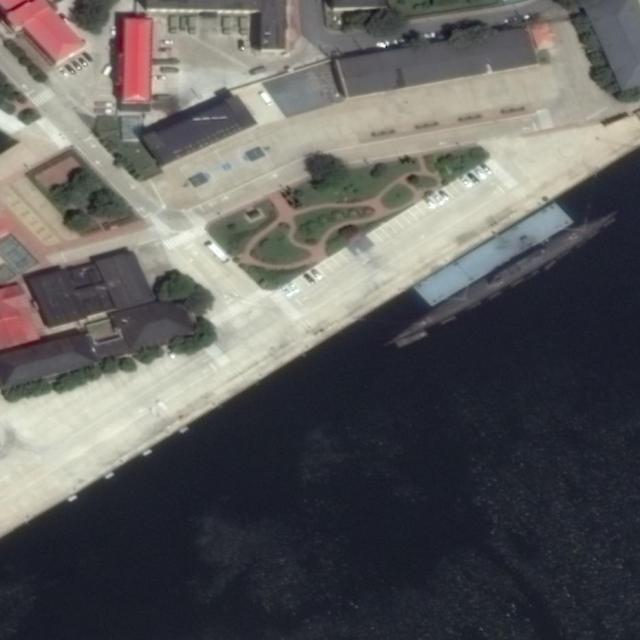Submarine: (376, 202, 627, 357)
